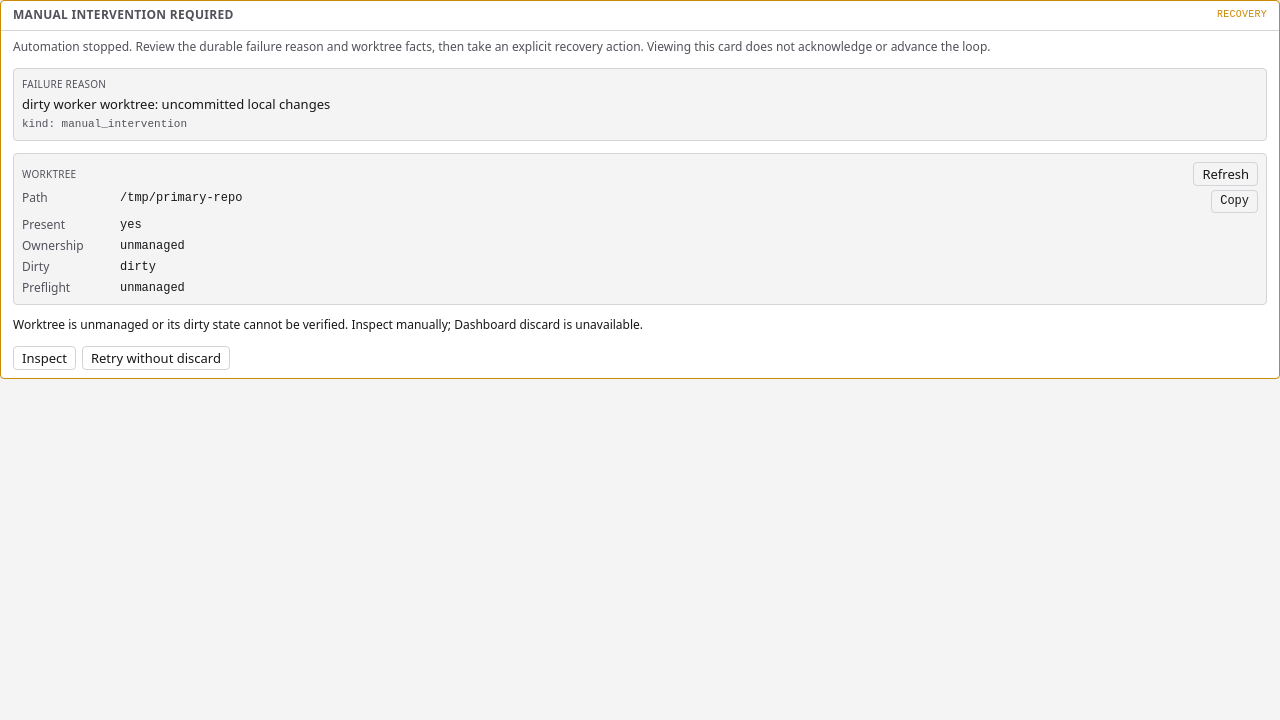
RecoveryCard › never offers discard for unmanaged dirty worktree
Check: the text "Dashboard discard is unavailable" is shown, box [13,316,643,333]
Click the button "Inspect": point(44, 358) [13,346,76,370]
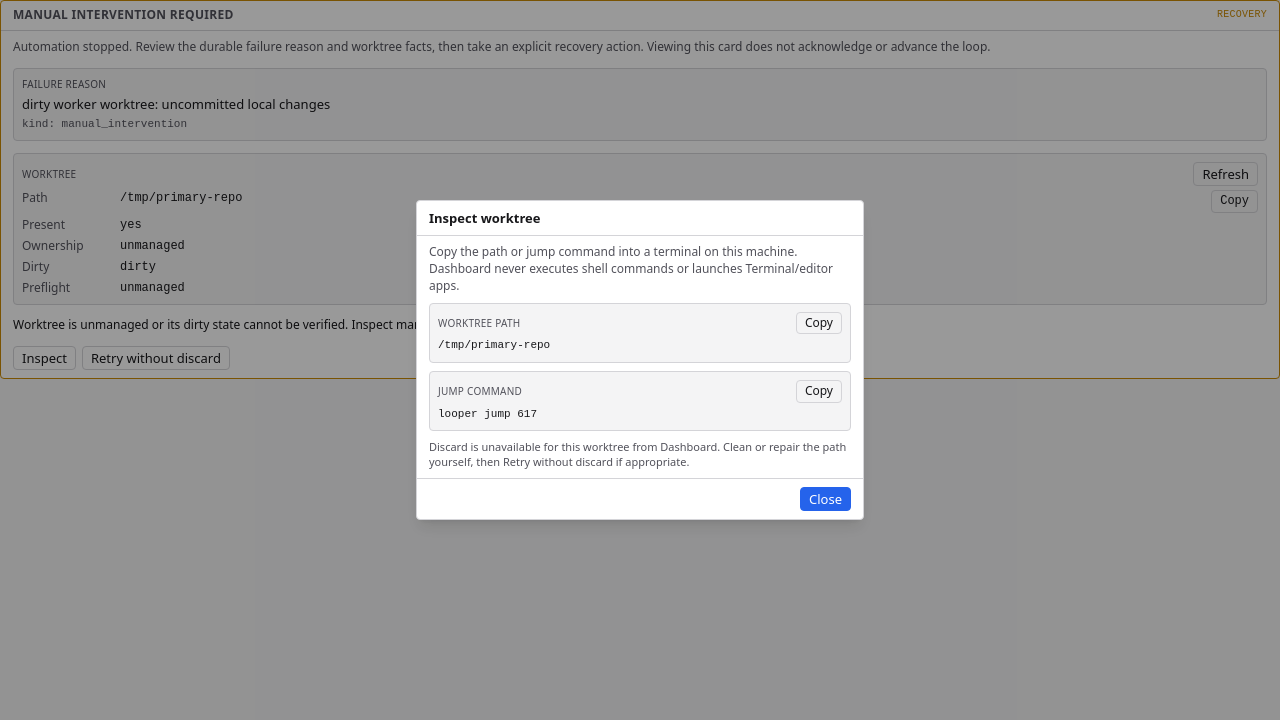
Check: the text "Discard is unavailable" is shown, box [13,316,643,333]
Check: the heading "Inspect worktree" is shown, box [429,209,540,227]
